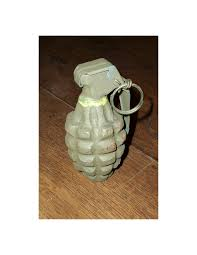bomb: (63, 58, 141, 181)
